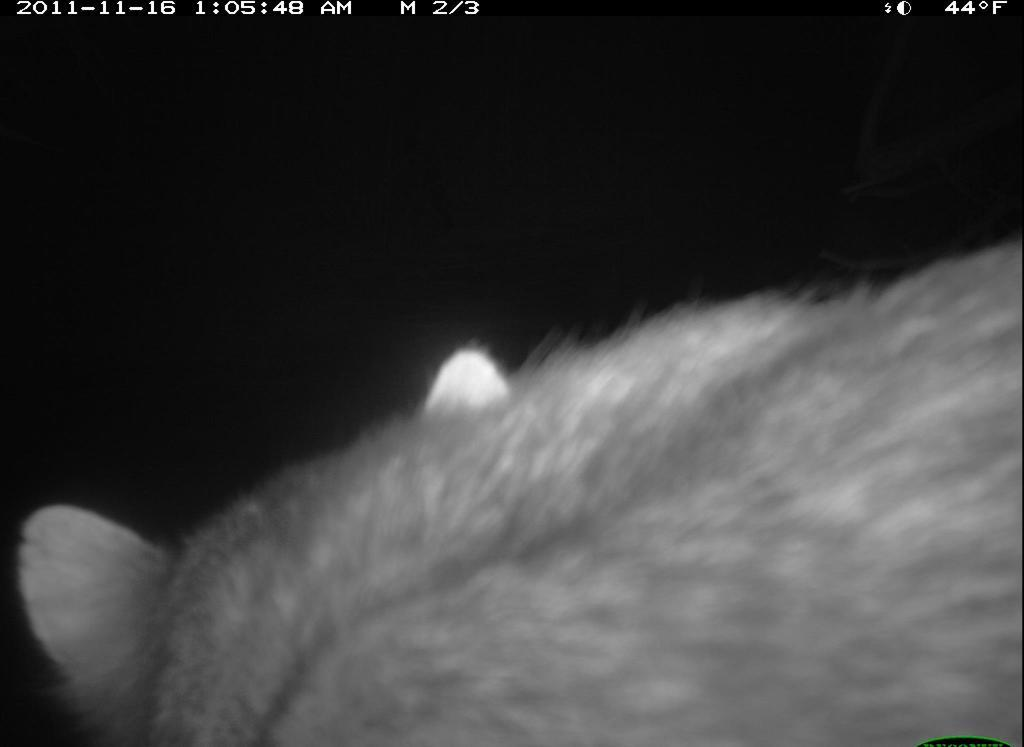raccoon: (20, 227, 1023, 738)
